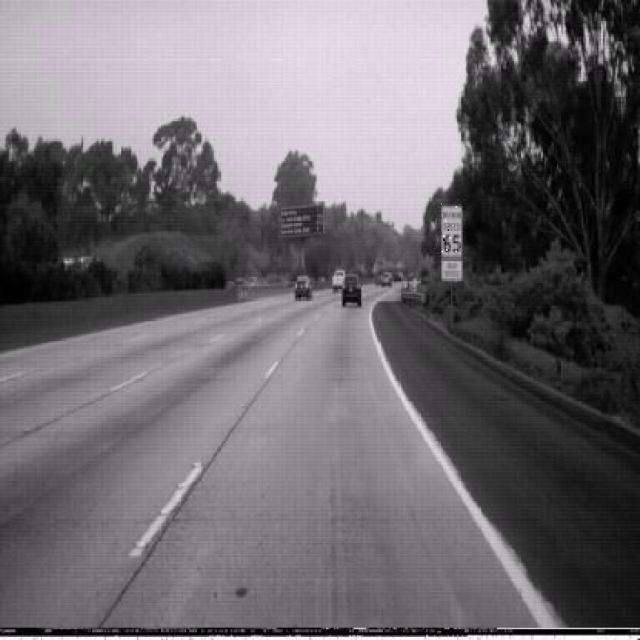speedLimit65: (442, 203, 463, 259)
